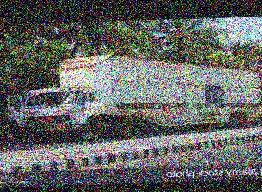truck: (6, 50, 262, 143)
